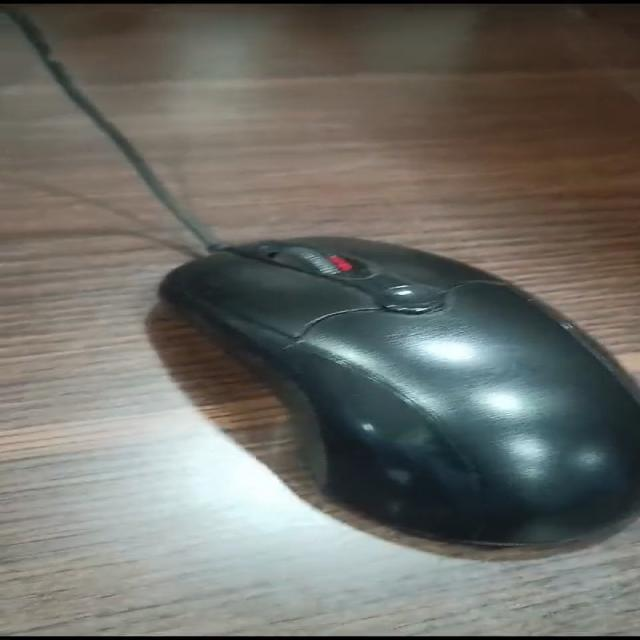mouse: (112, 203, 640, 576)
